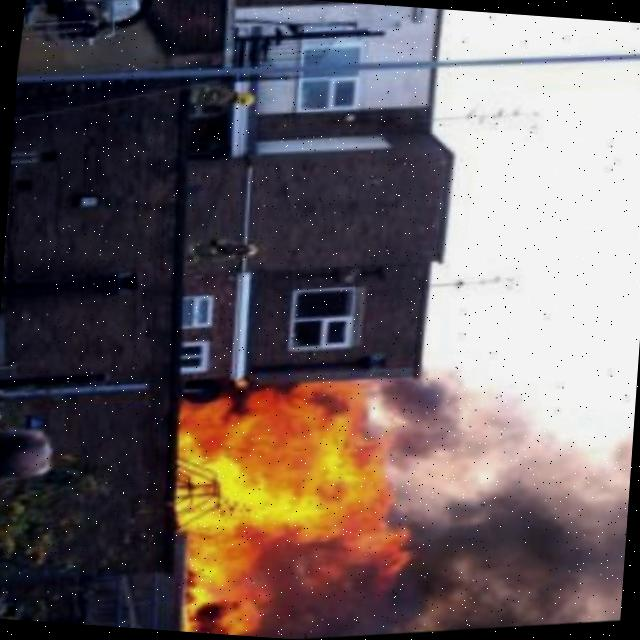fire: (162, 365, 414, 619), (182, 602, 240, 635)
